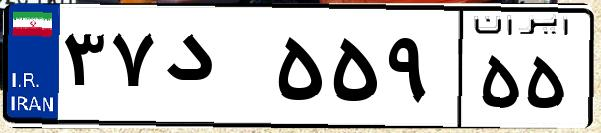3: (57, 26, 110, 100)
5: (270, 28, 330, 110), (330, 28, 385, 110), (475, 38, 525, 113), (525, 38, 570, 115)
7: (110, 28, 158, 98)
9: (385, 28, 445, 110)
د: (158, 20, 270, 120)
